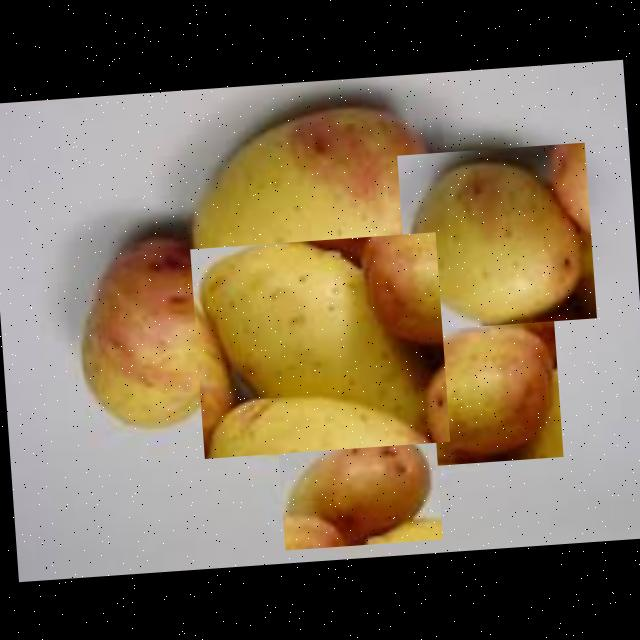Defected potato: (188, 230, 448, 458), (174, 96, 438, 311), (396, 141, 596, 330), (66, 234, 235, 436), (361, 314, 562, 469), (276, 422, 442, 549)
